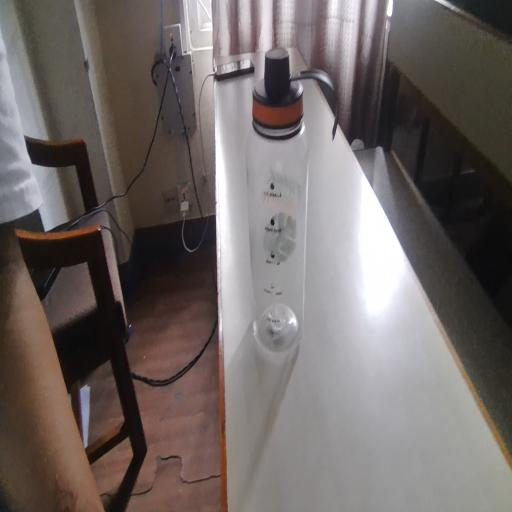Bottle: (236, 40, 307, 374)
